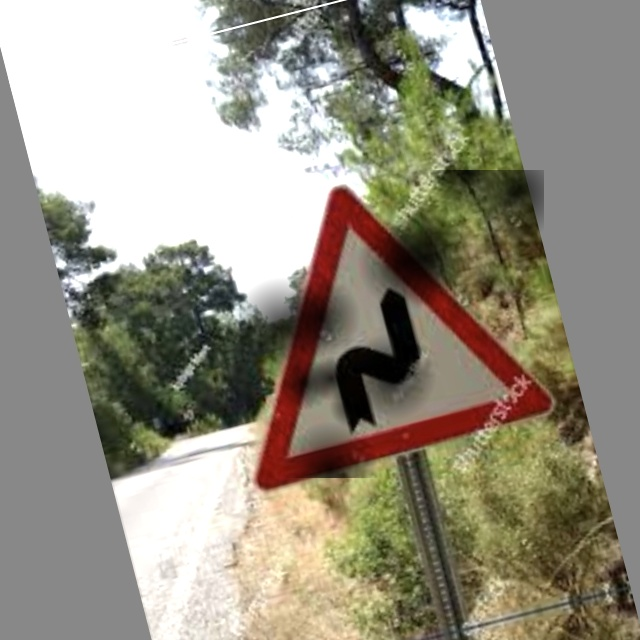Right_Reverse_Bend: (223, 170, 544, 478)
